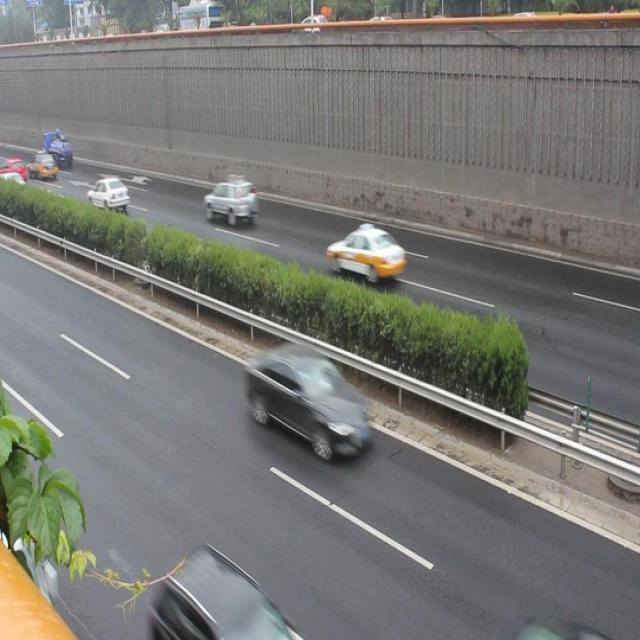car: (248, 333, 378, 468), (149, 548, 331, 640), (325, 216, 406, 292), (200, 174, 261, 227), (87, 174, 132, 214)
